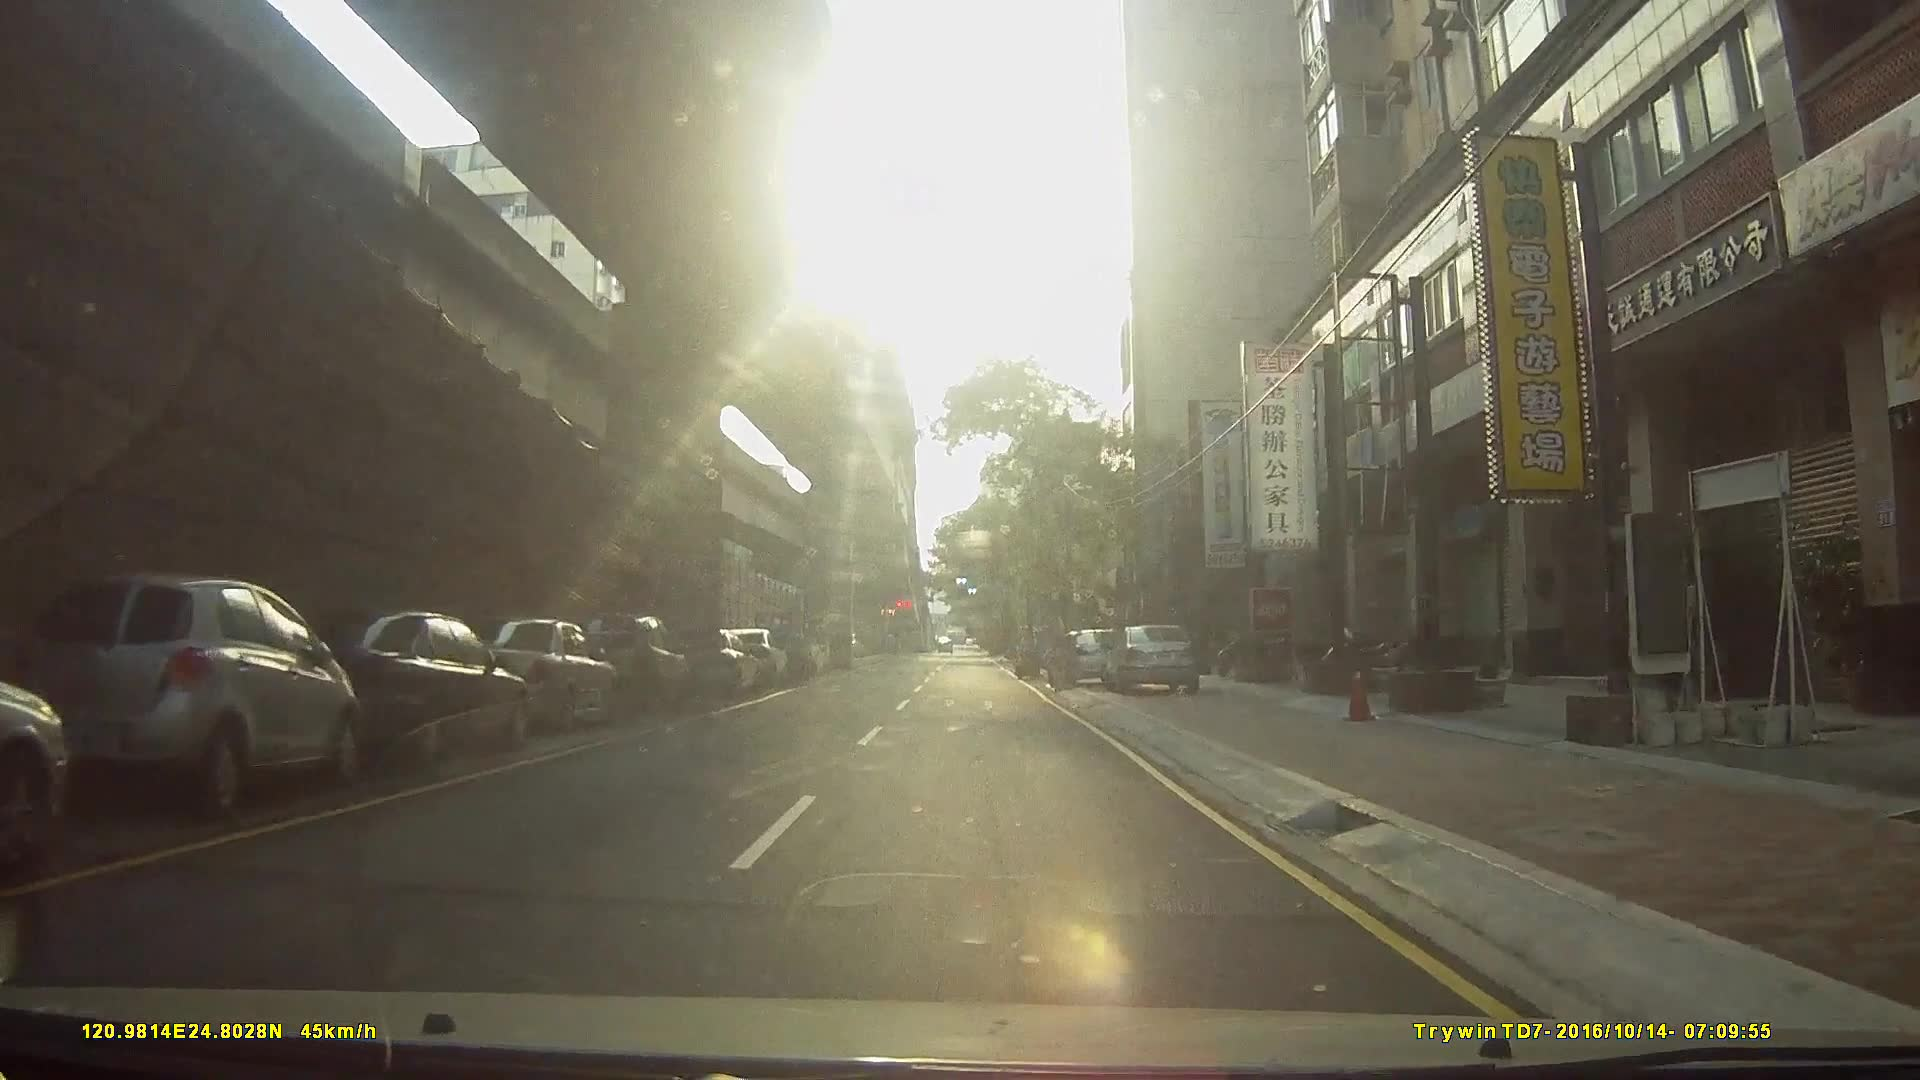rider: (1012, 622, 1041, 680)
vehicle: (16, 564, 370, 828), (284, 607, 517, 771), (454, 615, 613, 736), (566, 610, 689, 719), (1098, 622, 1202, 696), (1044, 628, 1126, 692), (751, 607, 808, 682)
